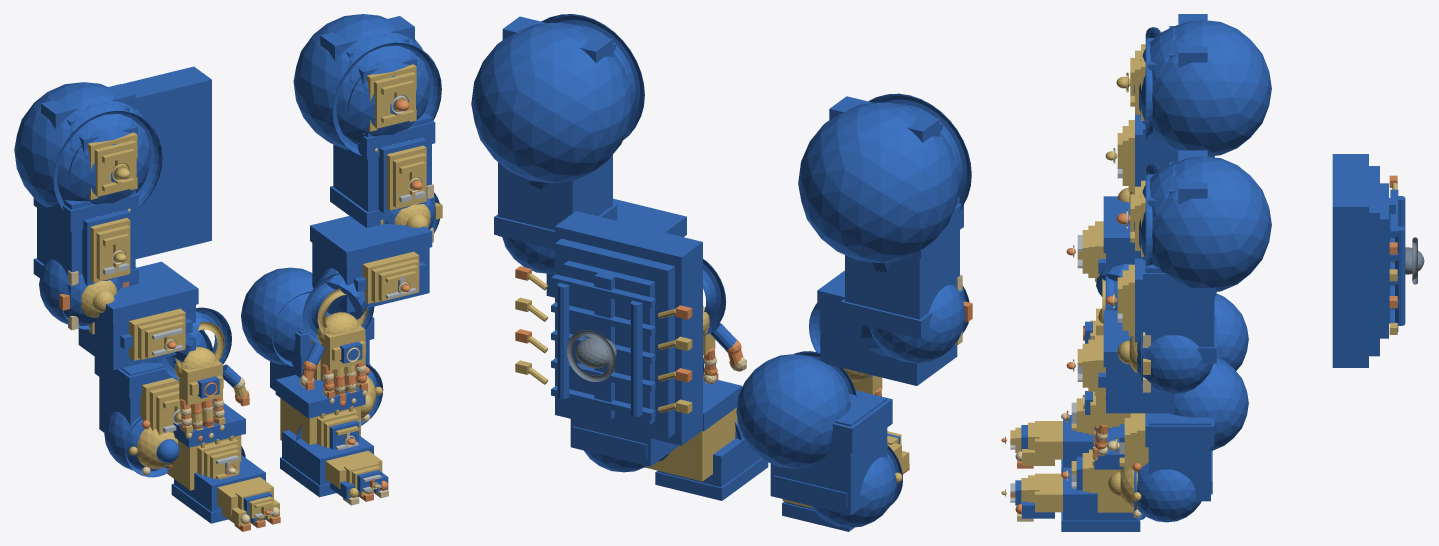
The model's file is Royal_Blue_Token_Folding_Limbs.glb.
3 renders of one model, left to right at view 1: azimuth 30°, elevation 25°; view 2: azimuth 150°, elevation 25°; view 3: azimuth 270°, elevation 25°, orthographic. The views are drawn at different scales.
Visible parts, largest first — view 1: limb_arm_L_shoulder, limb_arm_R_shoulder, limb_arm_L_elbow, limb_leg_R_hip, limb_back, limb_arm_R_elbow, limb_leg_L_hip, limb_leg_L_knee, limb_leg_R_ankle, limb_leg_L_ankle, limb_leg_R_knee, limb_arm_R_wrist (+1 smaller); view 2: limb_back, limb_arm_L_shoulder, limb_arm_R_shoulder, limb_leg_L_hip, limb_arm_L_elbow, limb_leg_R_knee, limb_leg_R_hip, limb_arm_R_elbow, limb_leg_L_knee, limb_leg_R_ankle, limb_arm_R_wrist, limb_leg_L_ankle (+1 smaller); view 3: limb_arm_R_shoulder, limb_arm_L_shoulder, limb_back, limb_leg_R_hip, limb_arm_R_elbow, limb_leg_R_knee, limb_leg_R_ankle, limb_arm_L_elbow, limb_leg_L_ankle, limb_leg_L_hip, limb_leg_L_knee, limb_arm_L_wrist.
Boxes of the visible parts, x1,y1,x2,y2 form: limb_arm_L_shoulder: [14, 82, 162, 286]; limb_arm_R_shoulder: [293, 14, 441, 213]; limb_arm_L_elbow: [33, 258, 201, 369]; limb_leg_R_hip: [241, 267, 374, 418]; limb_back: [121, 66, 211, 259]; limb_arm_R_elbow: [310, 186, 442, 319]; limb_leg_L_hip: [94, 329, 249, 447]; limb_leg_L_knee: [104, 411, 241, 490]; limb_leg_R_ankle: [280, 414, 388, 505]; limb_leg_L_ankle: [141, 446, 280, 531]; limb_leg_R_knee: [280, 364, 383, 450]; limb_arm_R_wrist: [302, 273, 374, 345]; limb_back: [515, 211, 702, 445]; limb_arm_L_shoulder: [798, 93, 971, 338]; limb_arm_R_shoulder: [471, 14, 644, 249]; limb_leg_L_hip: [736, 351, 892, 515]; limb_arm_L_elbow: [817, 270, 972, 385]; limb_leg_R_knee: [573, 407, 736, 481]; limb_leg_R_hip: [570, 315, 746, 466]; limb_arm_R_elbow: [494, 198, 686, 297]; limb_leg_L_knee: [773, 445, 902, 527]; limb_leg_R_ankle: [655, 416, 768, 500]; limb_arm_R_wrist: [703, 259, 726, 335]; limb_leg_L_ankle: [782, 431, 909, 531]; limb_arm_R_shoulder: [1105, 150, 1271, 363]; limb_arm_L_shoulder: [1105, 14, 1271, 191]; limb_back: [1332, 154, 1424, 367]; limb_leg_R_hip: [1083, 357, 1248, 501]; limb_arm_R_elbow: [1066, 310, 1216, 413]; limb_leg_R_knee: [1061, 446, 1212, 522]; limb_leg_R_ankle: [1001, 468, 1141, 531]; limb_arm_L_elbow: [1066, 187, 1142, 296]; limb_leg_L_ankle: [1001, 415, 1094, 473]; limb_leg_L_hip: [1083, 294, 1248, 370]; limb_leg_L_knee: [1061, 394, 1130, 434]; limb_arm_L_wrist: [1098, 271, 1117, 323].
Size of the model in its own units: 0.7 by 0.667 by 0.6432.
